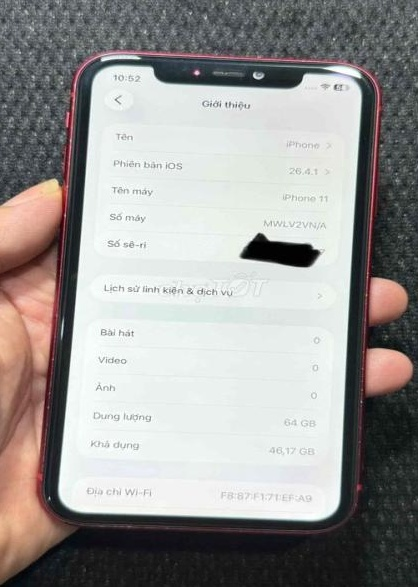scratch: (43, 227, 69, 434), (37, 483, 65, 522)
